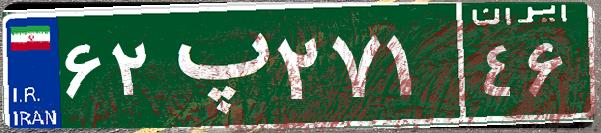1: (385, 28, 445, 110)
2: (273, 28, 330, 110), (110, 28, 158, 105)
4: (475, 38, 525, 113)
6: (57, 26, 110, 107), (525, 38, 570, 115)
7: (330, 28, 385, 110)
پ: (158, 15, 273, 115)
